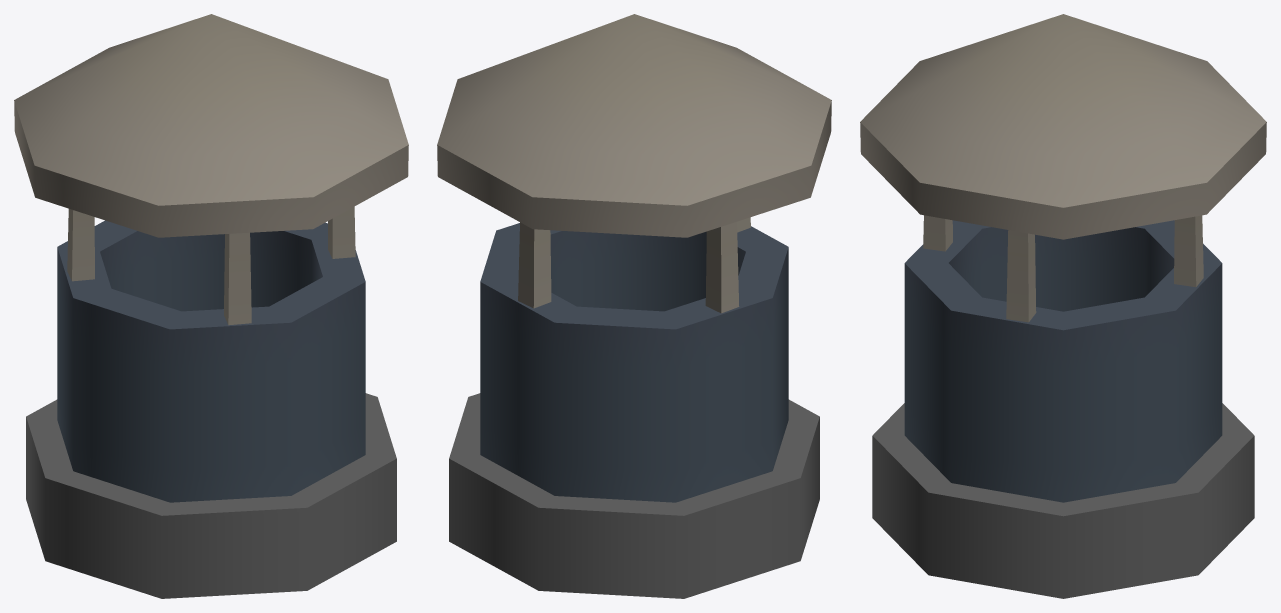
The model's file is Chimney_1_C_5.fbx.
The picture shows the model from 3 angles, left to right: view 1: azimuth 30°, elevation 25°; view 2: azimuth 150°, elevation 25°; view 3: azimuth 270°, elevation 25°; orthographic projection.
Parts seen in each view (by area): view 1: Chimney_1_C_5; view 2: Chimney_1_C_5; view 3: Chimney_1_C_5.
Part boxes in pixels (left/top/right/bottom): Chimney_1_C_5: left=14, top=14, right=408, bottom=598; Chimney_1_C_5: left=437, top=14, right=831, bottom=598; Chimney_1_C_5: left=860, top=14, right=1266, bottom=598.
Bounding box in the file's own units: 49.17 × 67.27 × 49.17.
